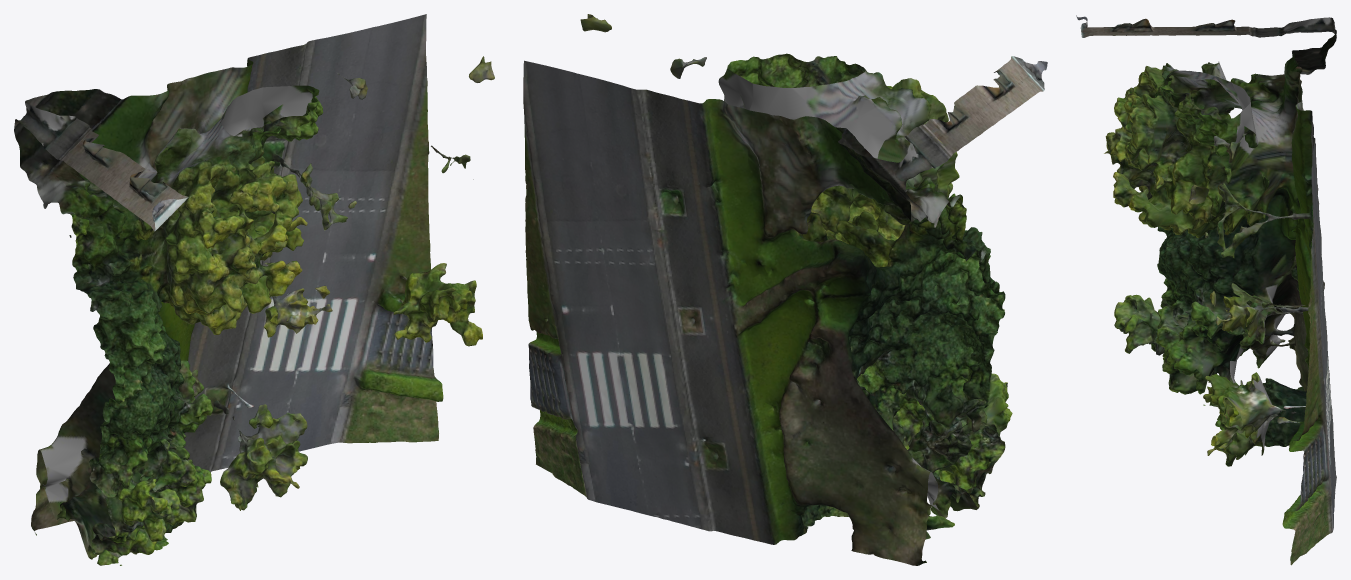
The model's file is Tile_+015_+019.fbx.
3 views of the same model, side by side, from view 1: azimuth 30°, elevation 25°; view 2: azimuth 150°, elevation 25°; view 3: azimuth 270°, elevation 25° (orthographic). The views are drawn at different scales.
Visible parts, largest first — view 1: DefaultName; view 2: DefaultName; view 3: DefaultName.
Part boxes in pixels (<box>): DefaultName: <box>14,14,494,565</box>; DefaultName: <box>523,14,1047,565</box>; DefaultName: <box>1076,15,1336,565</box>.
Bounding box in the file's own units: 22.54 × 22.54 × 14.15.
